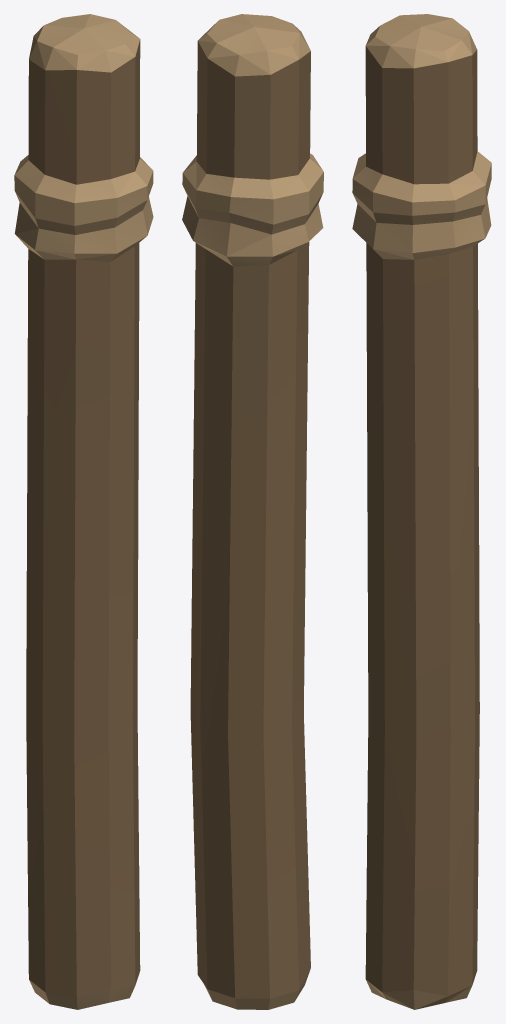
Rendered from Espiga_04.glb.
3 renders of one model, left to right at view 1: azimuth 90°, elevation 25°; view 2: azimuth 150°, elevation 25°; view 3: azimuth 270°, elevation 25°, orthographic.
Parts seen in each view (by area): view 1: SM_Prop_Dock_Pole_02_1; view 2: SM_Prop_Dock_Pole_02_1; view 3: SM_Prop_Dock_Pole_02_1.
Boxes of the visible parts, left/top/right/bottom form: SM_Prop_Dock_Pole_02_1: left=14, top=14, right=153, bottom=1009; SM_Prop_Dock_Pole_02_1: left=182, top=14, right=323, bottom=1009; SM_Prop_Dock_Pole_02_1: left=352, top=14, right=491, bottom=1009.
Bounding box in the file's own units: 0.582 × 4.43 × 0.5765.
Materials: 1 (1 with a texture image).
